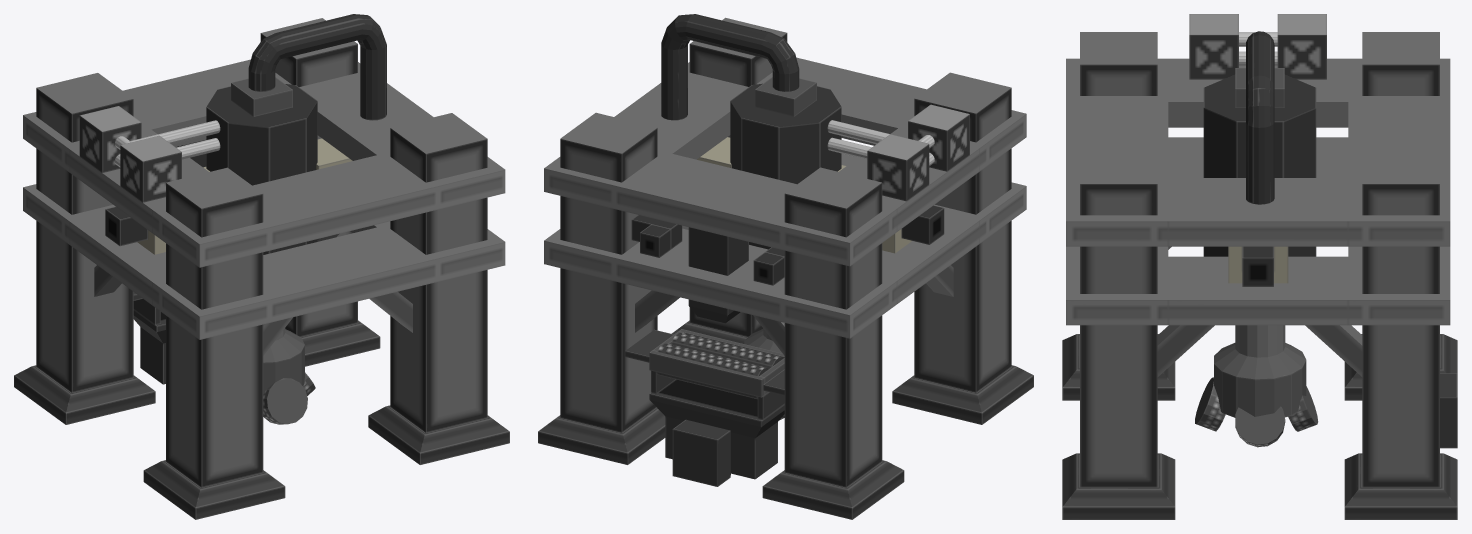
Rendered from large_mining_drill.obj.
3 views of the same model, side by side, from view 1: azimuth 30°, elevation 25°; view 2: azimuth 150°, elevation 25°; view 3: azimuth 270°, elevation 25° (orthographic). The views are drawn at different scales.
Visible parts, largest first — view 1: mesh; view 2: mesh; view 3: mesh.
Boxes of the visible parts, x1,y1,x2,y2 form: mesh: (14, 14, 509, 519); mesh: (538, 14, 1033, 519); mesh: (1062, 14, 1457, 519).
Bounding box in the file's own units: 7 × 8.03 × 7.
